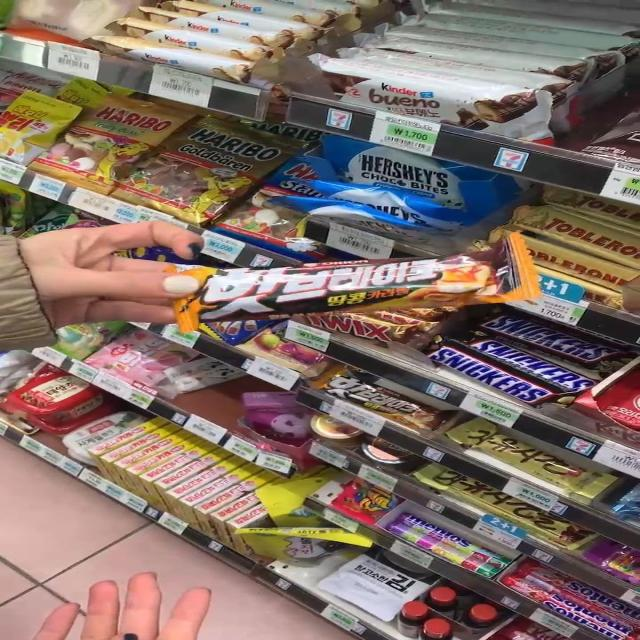hotBreak: (188, 261, 522, 311)
